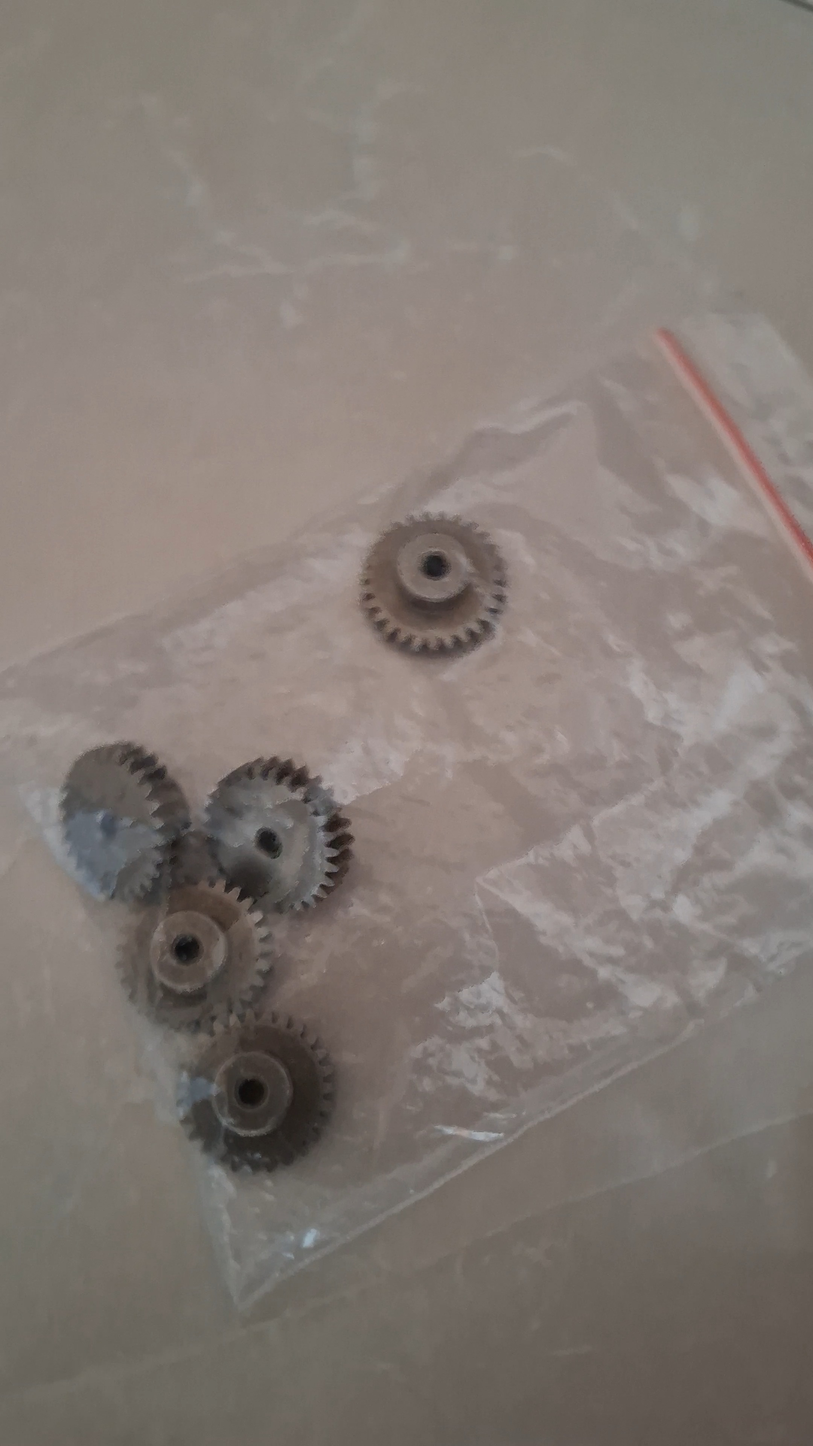spur gear: (179, 1014, 333, 1170), (118, 880, 271, 1030), (206, 757, 352, 911), (60, 741, 190, 901), (360, 515, 505, 653)
